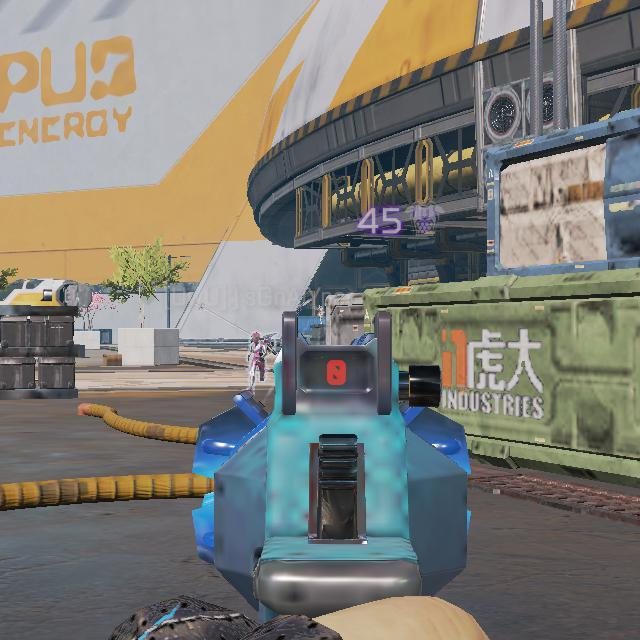avatar: (246, 331, 268, 395)
